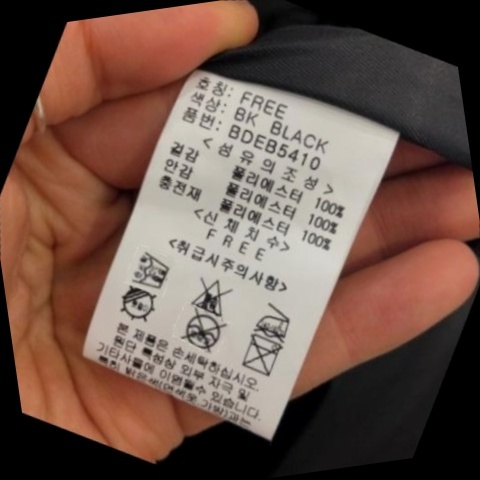DN_dry_clean: (175, 305, 238, 355)
DN_wash: (235, 330, 294, 384)
dry_flat: (122, 238, 187, 293)
iron_medium: (245, 290, 308, 345)
line_dry_in_shade: (116, 284, 168, 328)
non_chlorine_bleach: (181, 270, 238, 321)
